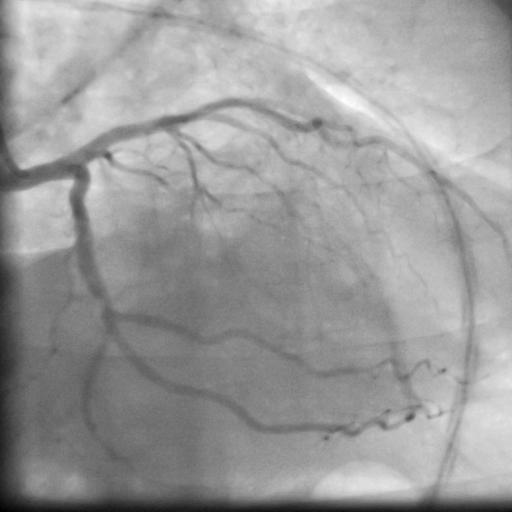Stenosis: (89, 293, 116, 309)
